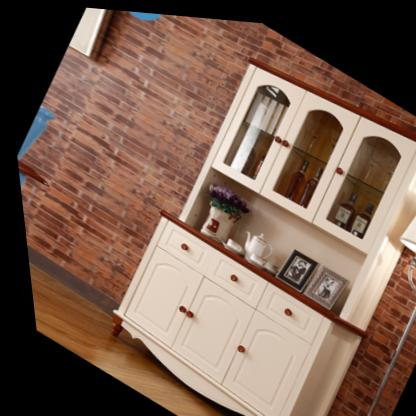Cupboard: (103, 55, 416, 416)
Wooden floor: (22, 248, 231, 416)
